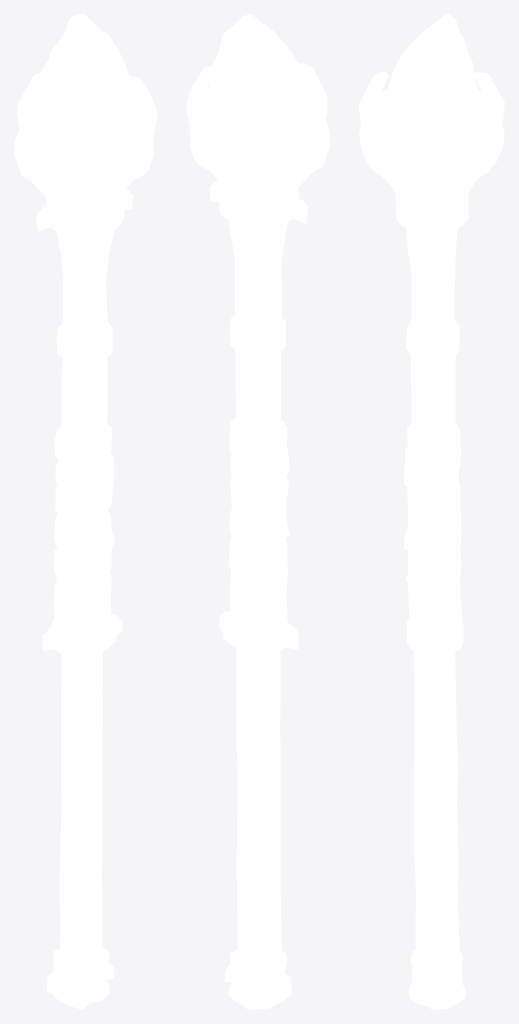
Rendered from staff_ember.glb.
The picture shows the model from 3 angles, left to right: view 1: azimuth 30°, elevation 25°; view 2: azimuth 150°, elevation 25°; view 3: azimuth 270°, elevation 25°; orthographic projection.
Visible parts, largest first — view 1: staff_ember; view 2: staff_ember; view 3: staff_ember.
Part boxes in pixels (bbox=[...]): staff_ember: bbox=[14, 14, 157, 1009]; staff_ember: bbox=[186, 14, 330, 1009]; staff_ember: bbox=[359, 14, 504, 1009].
Bounding box in the file's own units: 0.258 × 1.7 × 0.2264.
Materials: 1 (1 with a texture image).
